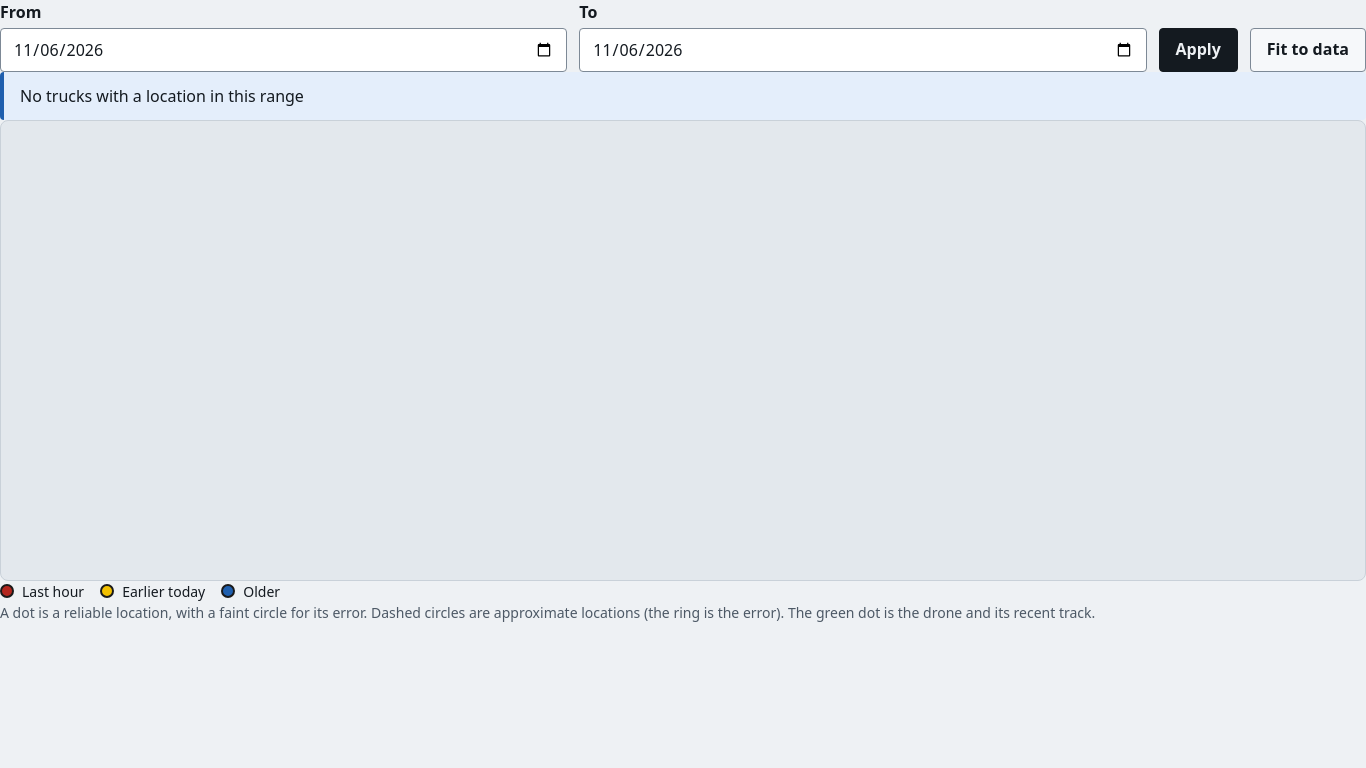
Test: 401 reports unauthorized instead of an error
The width and height of the screenshot is (1366, 768).
Click the button "Apply" at (1198, 50), box [1158,28,1238,72]
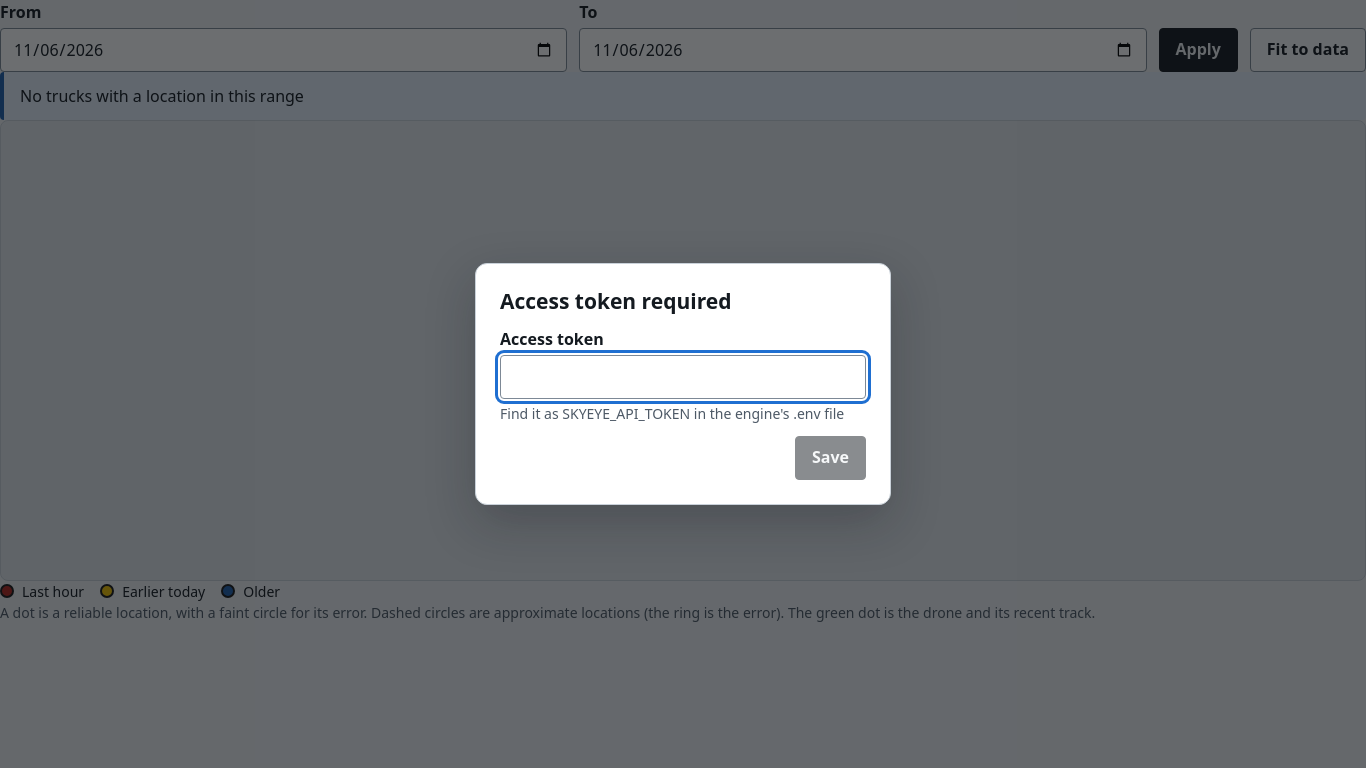
Check: the heading "Access token required" is shown, box [500,287,732,315]
